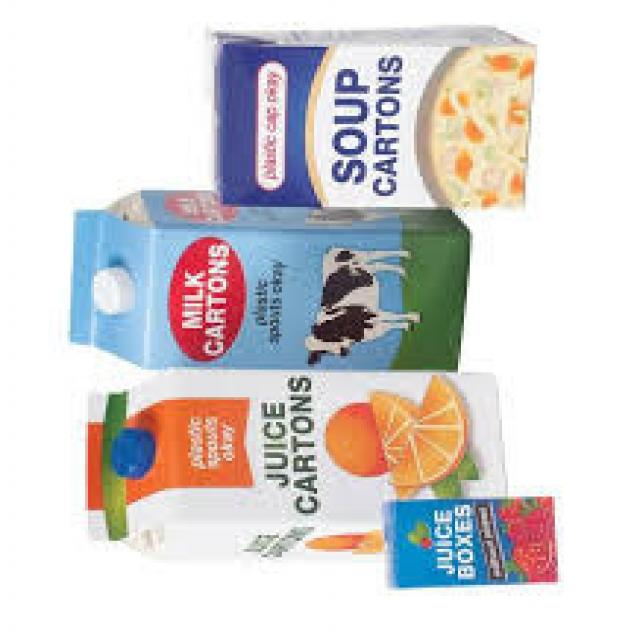non_white_jug: (84, 370, 511, 557), (68, 187, 474, 373), (202, 24, 532, 213), (382, 493, 562, 592)
